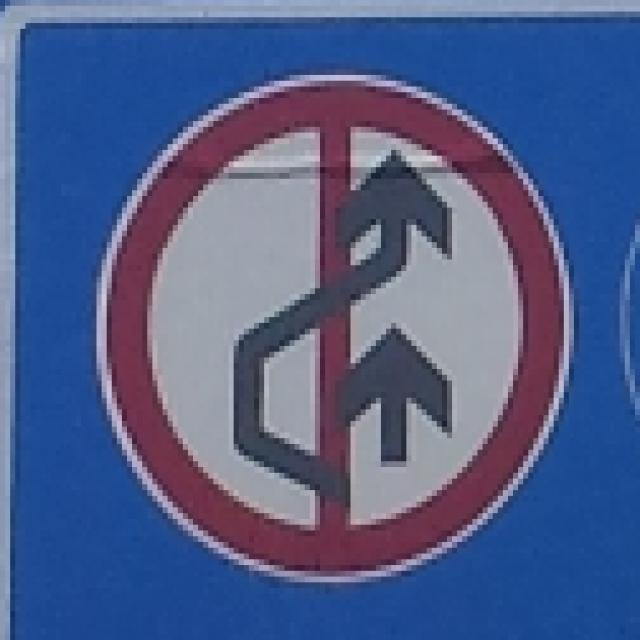Not that Direction: (102, 72, 573, 582)
